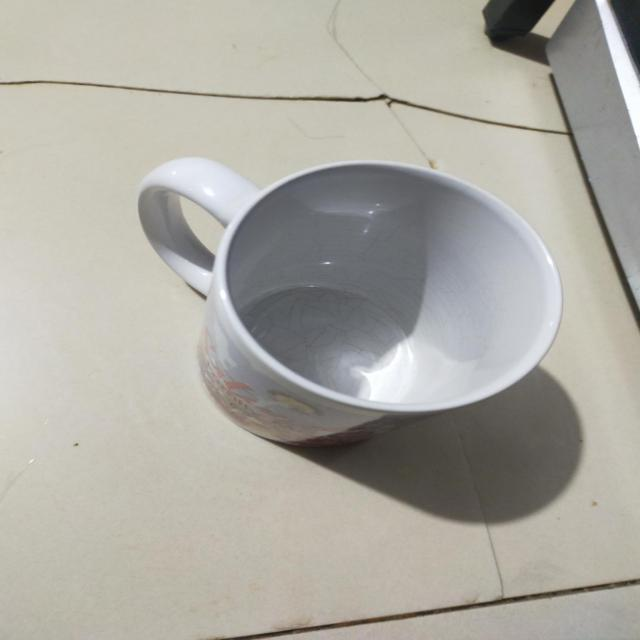taza: (132, 157, 561, 448)
